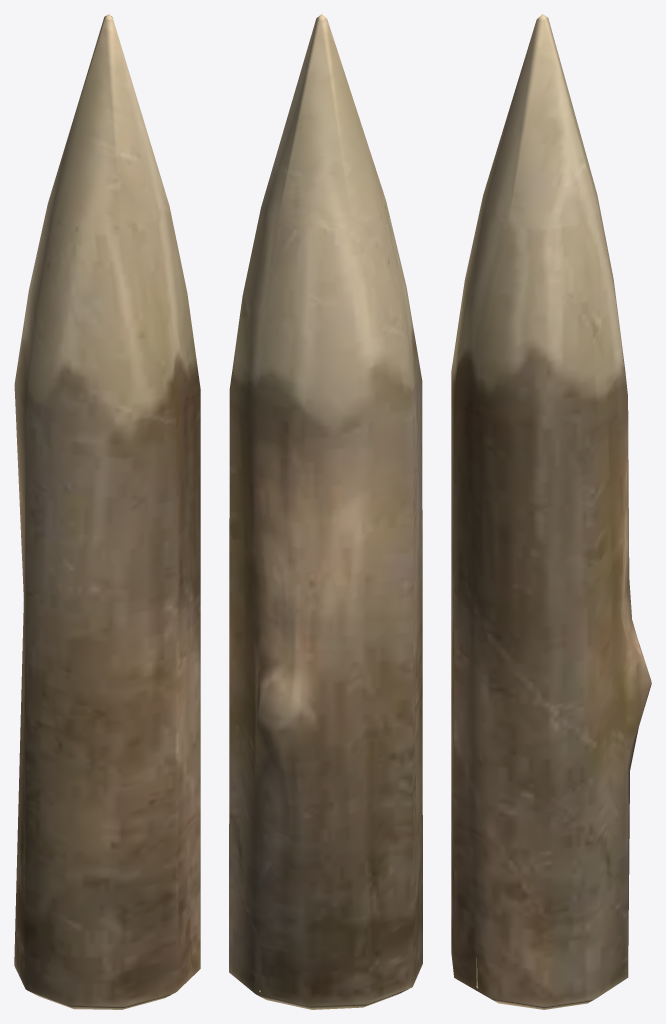
3 renders of one model, left to right at view 1: azimuth 30°, elevation 25°; view 2: azimuth 150°, elevation 25°; view 3: azimuth 270°, elevation 25°, orthographic.
Parts seen in each view (by area): view 1: SM_Garou_Set_SM_Spike_01_02_LOD0; view 2: SM_Garou_Set_SM_Spike_01_02_LOD0; view 3: SM_Garou_Set_SM_Spike_01_02_LOD0.
Boxes of the visible parts, x1=… form: SM_Garou_Set_SM_Spike_01_02_LOD0: x1=14, y1=14, x2=200, y2=1009; SM_Garou_Set_SM_Spike_01_02_LOD0: x1=229, y1=14, x2=422, y2=1009; SM_Garou_Set_SM_Spike_01_02_LOD0: x1=451, y1=14, x2=651, y2=1009.
Size of the model in its own units: 0.2214 by 1.21 by 0.228.
Materials: 1 (1 with a texture image).
